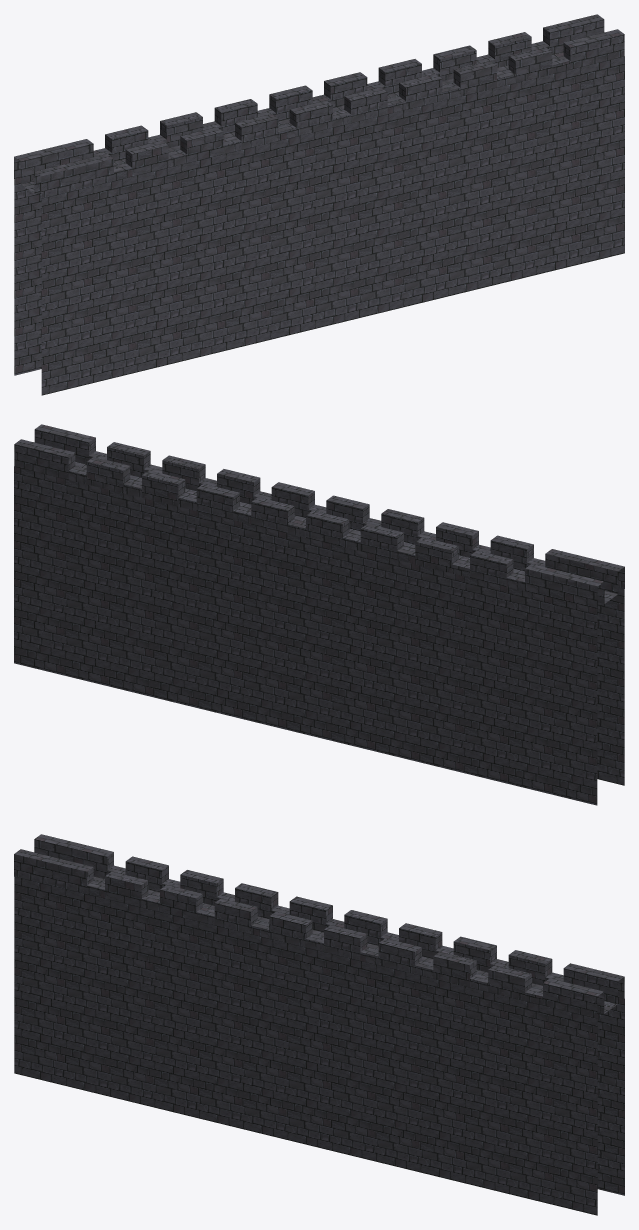
Rendered from muralha.fbx.
3 views of the same model, one above another, from view 1: azimuth 30°, elevation 25°; view 2: azimuth 150°, elevation 25°; view 3: azimuth 330°, elevation 25° (orthographic).
Visible parts, largest first — view 1: muralha; view 2: muralha; view 3: muralha.
Boxes of the visible parts, x1,y1,x2,y2 form: muralha: (14,14,624,395); muralha: (14,424,624,805); muralha: (14,834,624,1215).
Size of the model in its own units: 4155 by 1491 by 335.
Materials: 2 (2 with a texture image).
